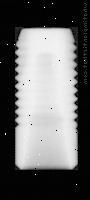DENTSPLY: (14, 27, 78, 170)
